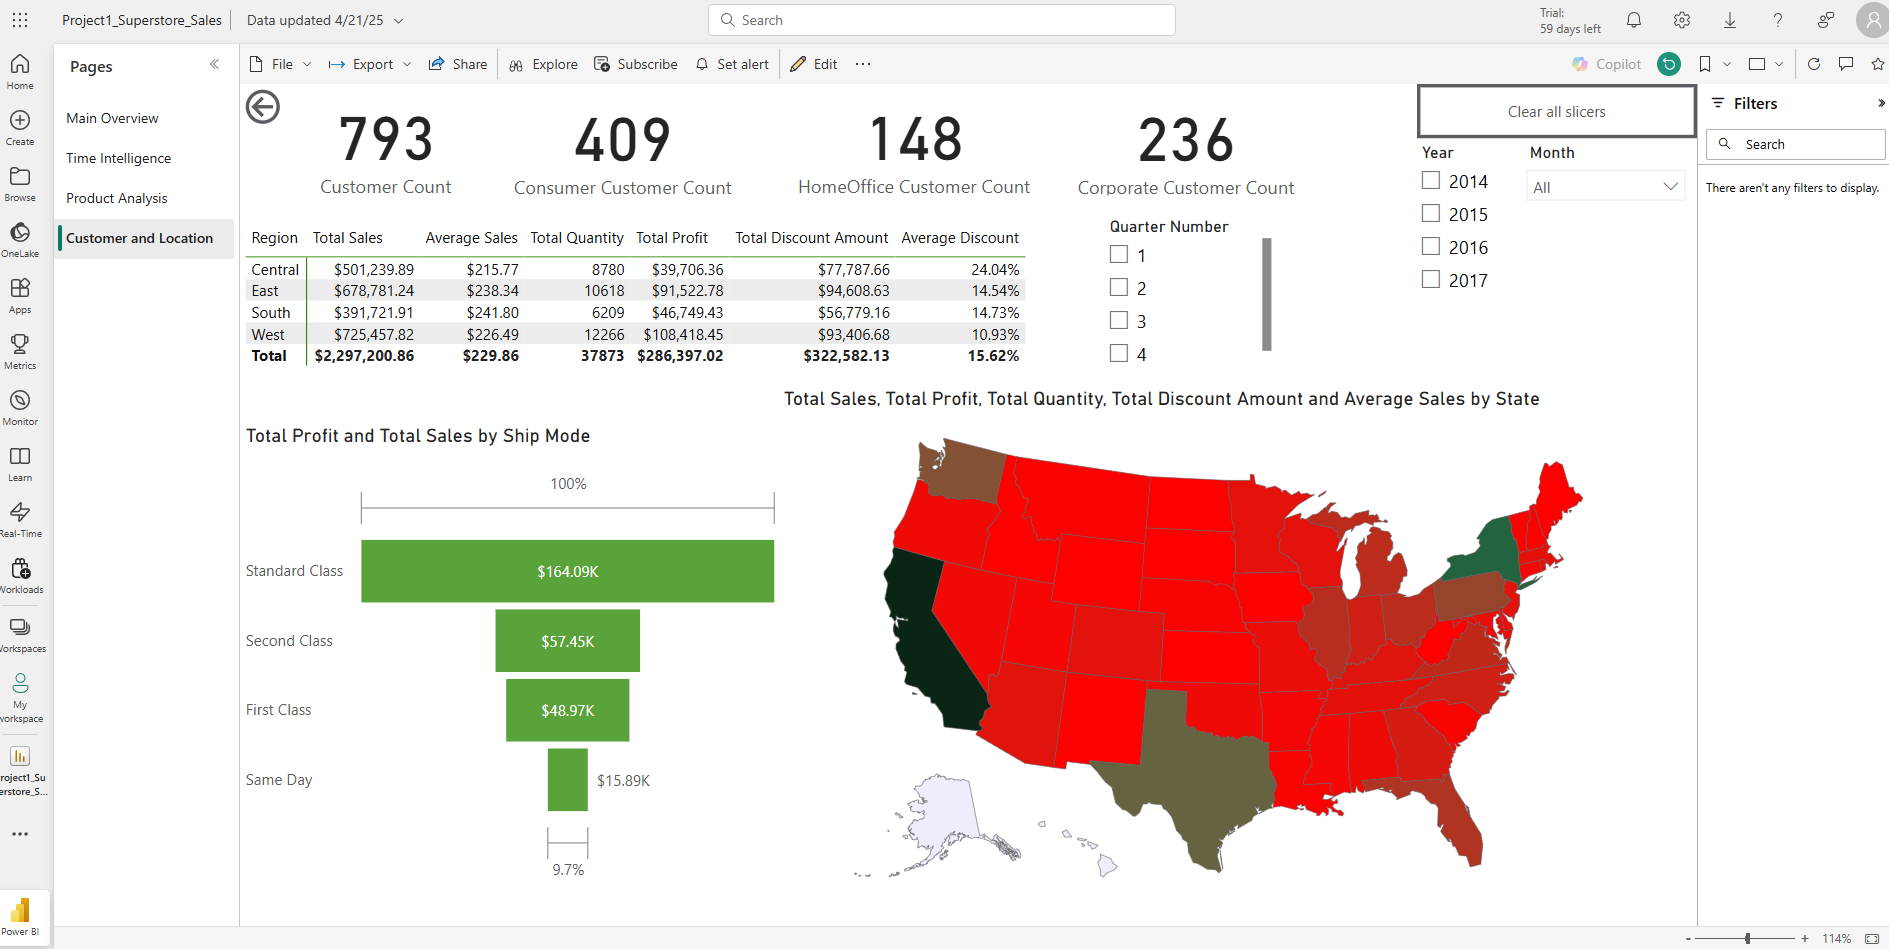

The dashboard page shown, as its layout file describes it:
{"tool":"powerbi","page":{"name":"Customer and Location","canvas":[1280,720],"ordinal":3},"visuals":[{"type":"pivotTable","fields":{"Values":["FactSales.Total Sales","FactSales.Average Sales","FactSales.Total Quantity","FactSales.Total Profit","FactSales.Total Discount Amount","FactSales.Average Discount"],"Rows":["LocationDimension.Region"]},"box":[0,119.6,702.2,139.1],"z":0},{"type":"actionButton","box":[0,0,100,40],"z":1000},{"type":"slicer","fields":{"Values":["DateDimension.Year Hierarchy.Year"]},"box":[1025.2,47.7,95.3,151.7],"z":2000},{"type":"slicer","fields":{"Values":["DateDimension.Year Hierarchy.Quarter Number"]},"box":[750.9,112.8,160.5,139.1],"z":3000},{"type":"slicer","fields":{"Values":["DateDimension.Year Hierarchy.Month"]},"box":[1120.5,47.7,159.5,144],"z":4000},{"type":"shapeMap","fields":{"Category":["LocationDimension.State"],"Value":["FactSales.Total Sales"]},"box":[472.7,266.5,800.5,453.3],"z":5000},{"type":"funnel","fields":{"Y":["FactSales.Total Profit"],"Category":["FactSales.Ship Mode"]},"box":[0,298.6,479.5,421.2],"z":6000},{"type":"actionButton","box":[1033.9,0,246.1,47.7],"z":7000},{"type":"card","fields":{"Values":["FactSales.Consumer Customer Count"]},"box":[217.9,1.9,237.3,101.2],"z":7001},{"type":"card","fields":{"Values":["FactSales.Corporate Customer Count"]},"box":[712,1.9,239.3,101.2],"z":7002},{"type":"card","fields":{"Values":["FactSales.HomeOffice Customer Count"]},"box":[472.7,0,239.3,103.1],"z":7003},{"type":"card","fields":{"Values":["FactSales.Customer Count"]},"box":[38.9,0,179,103.1],"z":7004}]}

Visuals, with their boxes on the page's 1280x720 design canvas (x1, y1, x2, y2). These are canvas units, not pixel positions in the 1889x949 screenshot, which may show the page scaled, cropped or inside an application window:
pivotTable - FactSales.Total Sales x FactSales.Average Sales: left=0, top=120, right=702, bottom=259
actionButton: left=0, top=0, right=100, bottom=40
slicer - DateDimension.Year Hierarchy.Year: left=1025, top=48, right=1120, bottom=199
slicer - DateDimension.Year Hierarchy.Quarter Number: left=751, top=113, right=911, bottom=252
slicer - DateDimension.Year Hierarchy.Month: left=1120, top=48, right=1280, bottom=192
shapeMap - LocationDimension.State x FactSales.Total Sales: left=473, top=266, right=1273, bottom=720
funnel - FactSales.Total Profit x FactSales.Ship Mode: left=0, top=299, right=480, bottom=720
actionButton: left=1034, top=0, right=1280, bottom=48
card - FactSales.Consumer Customer Count: left=218, top=2, right=455, bottom=103
card - FactSales.Corporate Customer Count: left=712, top=2, right=951, bottom=103
card - FactSales.HomeOffice Customer Count: left=473, top=0, right=712, bottom=103
card - FactSales.Customer Count: left=39, top=0, right=218, bottom=103
